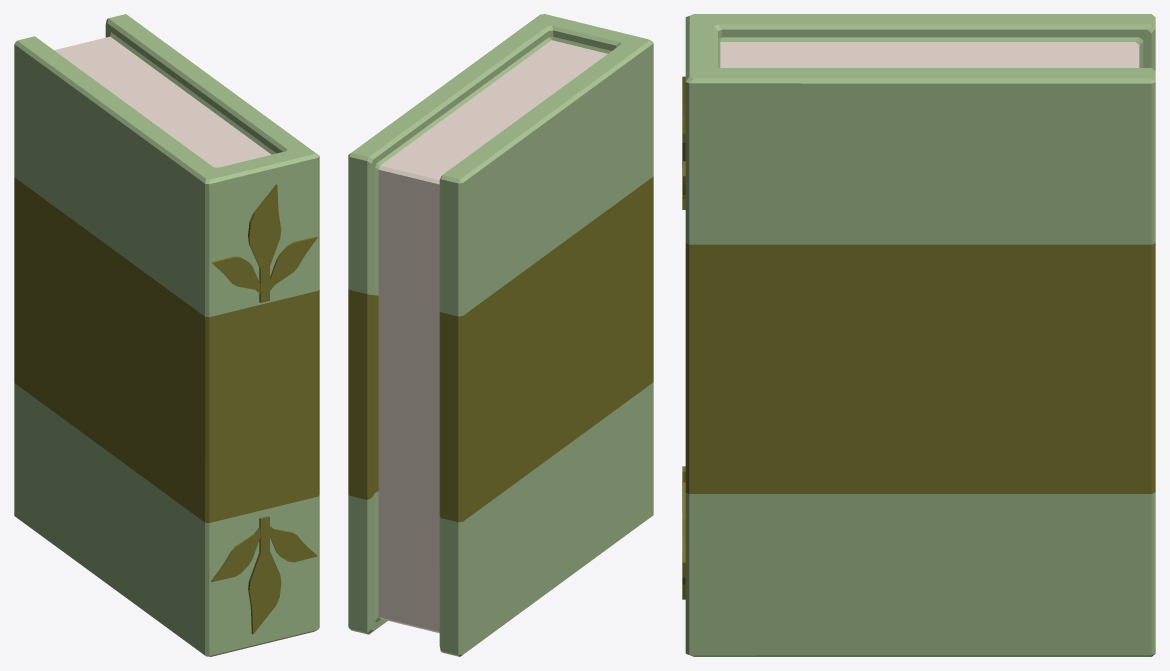
Rendered from Book_18.glb.
3 views of the same model, side by side, from view 1: azimuth 30°, elevation 25°; view 2: azimuth 150°, elevation 25°; view 3: azimuth 270°, elevation 25° (orthographic). The views are drawn at different scales.
Visible parts, largest first — view 1: Book_18; view 2: Book_18; view 3: Book_18.
Part boxes in pixels (x1,y1,x2,y2): Book_18: (14, 14, 319, 656); Book_18: (348, 14, 653, 656); Book_18: (682, 14, 1155, 656).
Bounding box in the file's own units: 0.0986 × 0.3928 × 0.2913.
Materials: 1 (1 with a texture image).
